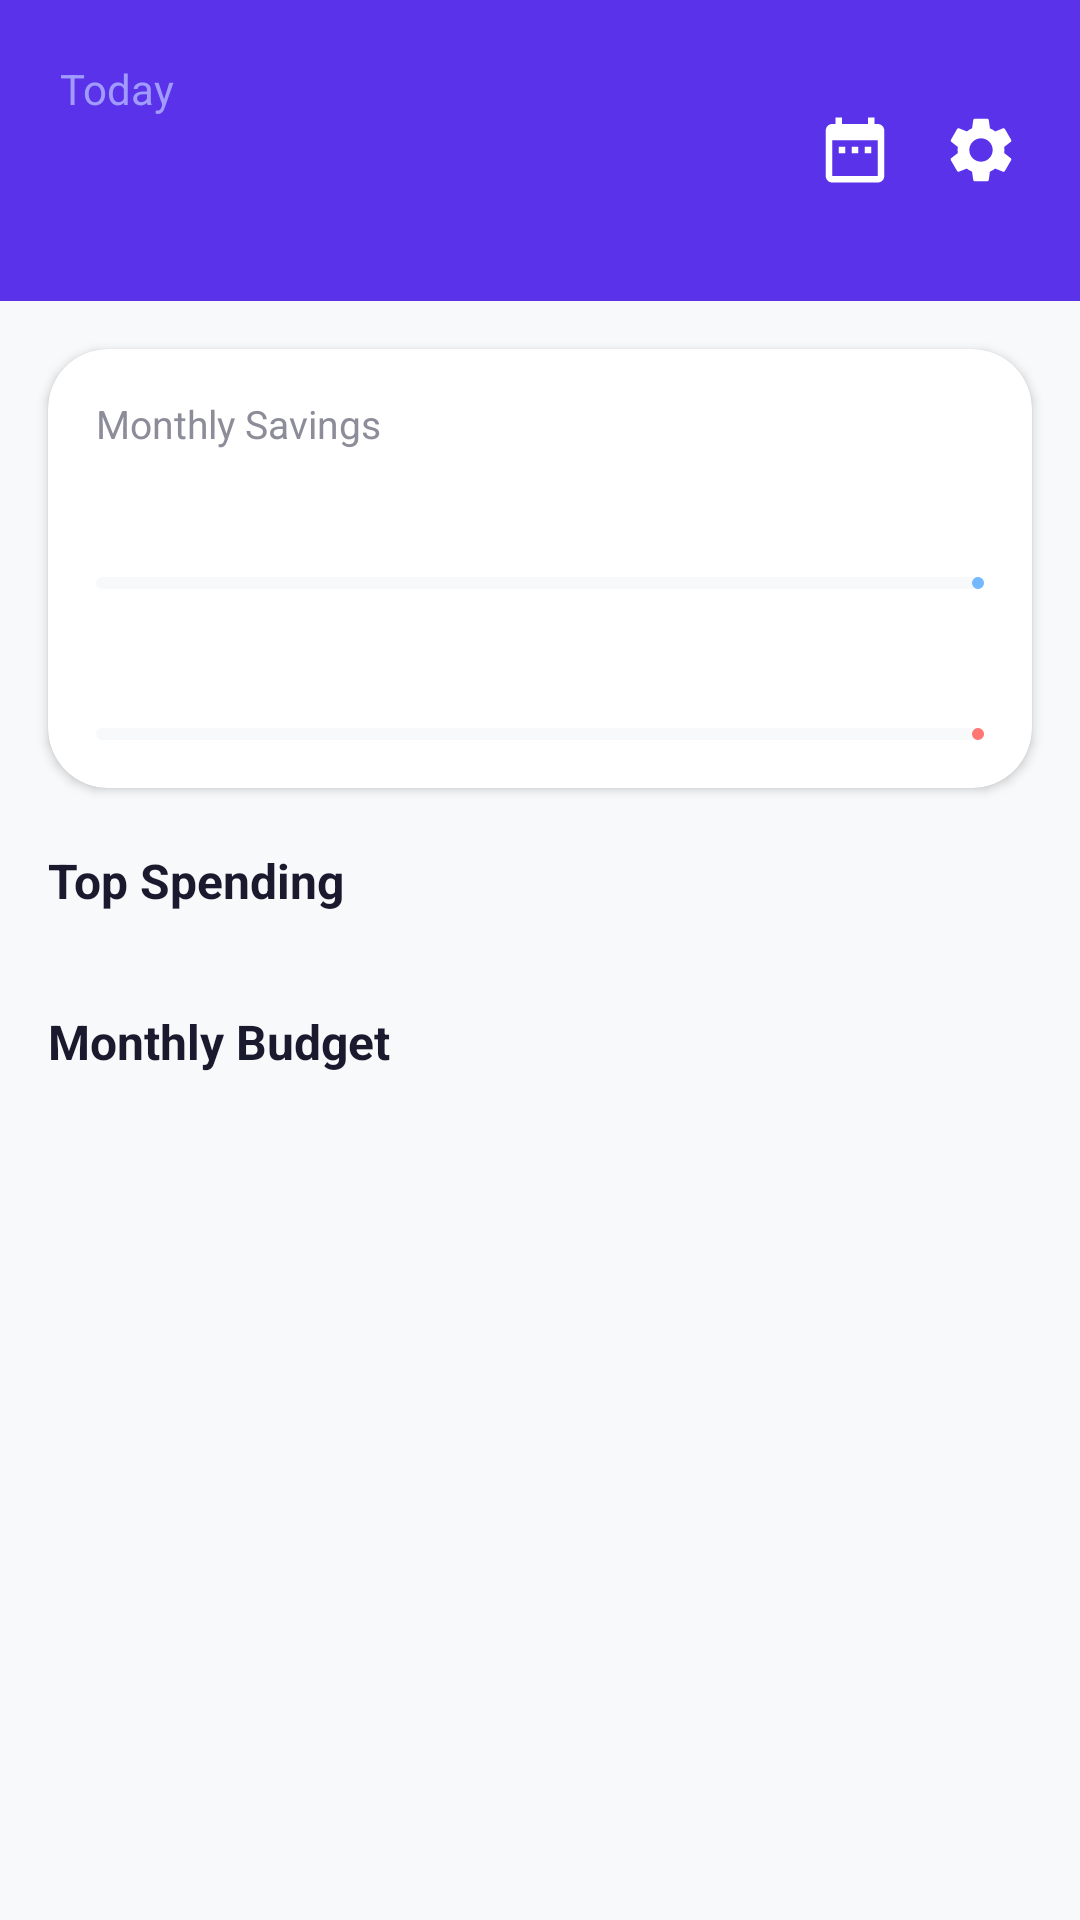

Where to tap for icons on this 1080px x 1920px app screen, as [x,y]:
Calendar: [855,150]
Settings: [981,150]
